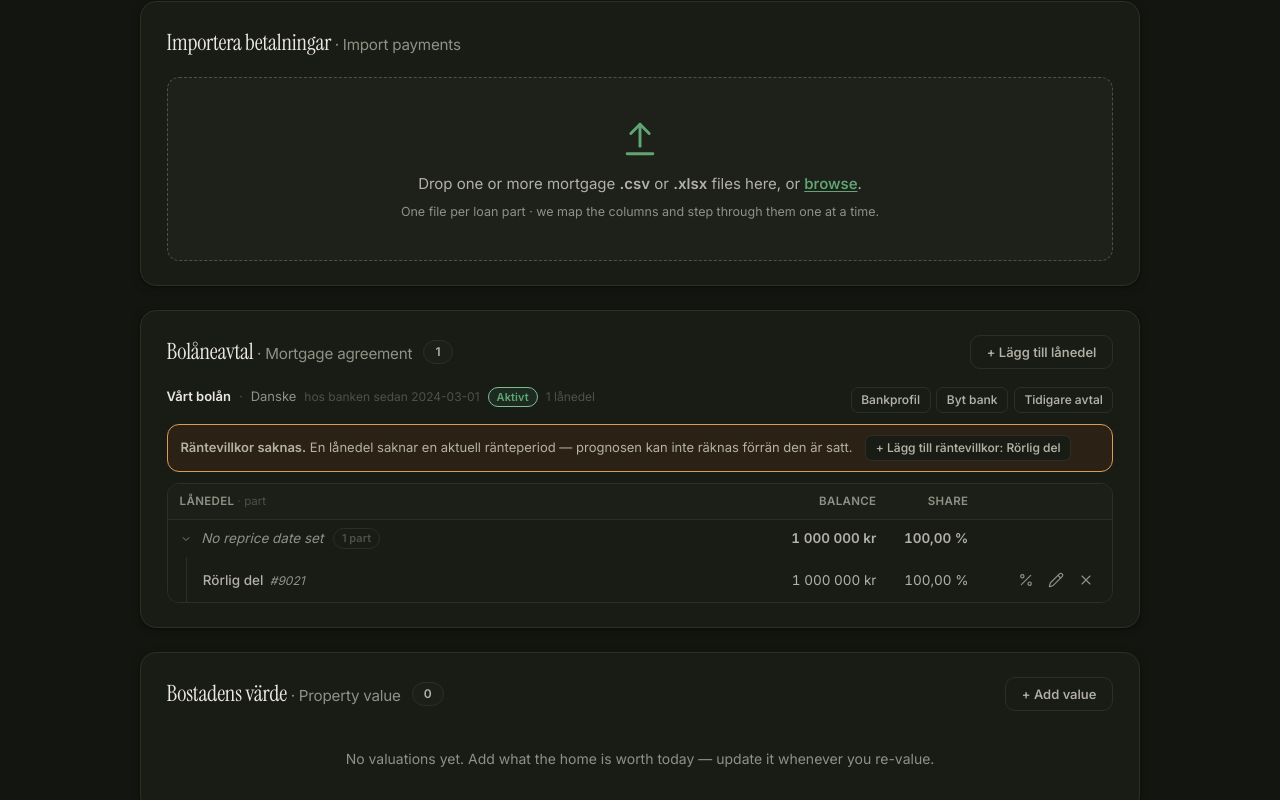
Test case: Bolanekoll — bank profile modal save (plan 109c Stage 1) › keeps the modal open and shows the error when the profile save fails
(page scrolled)
What coordinates should you click on to do the following:
click the button "Bankprofil"
I would click on:
 (891, 400)
Its box is x1=851 y1=387 x2=931 y2=413.
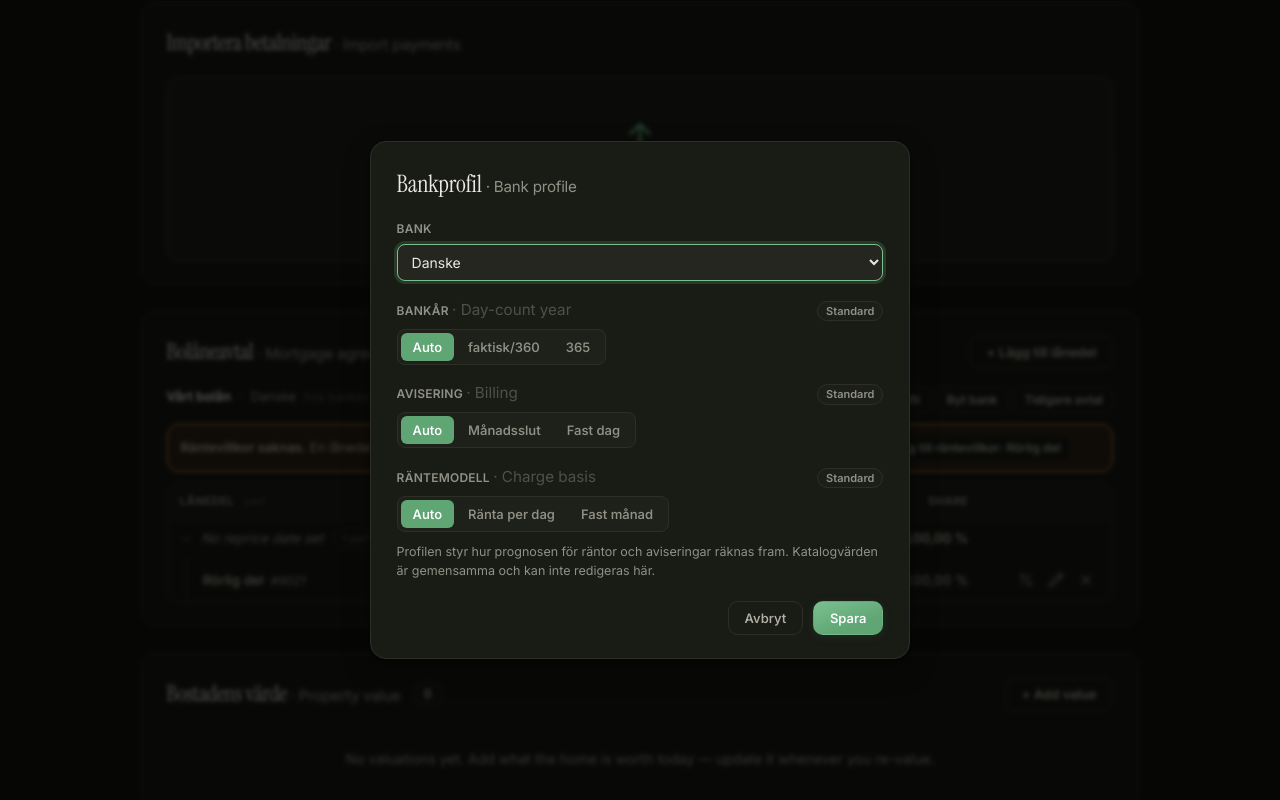
// Lock the year-basis to 365 so the save writes a declared lock.
What coordinates should you click on to do the following:
click the radio button labelled "365"
I would click on:
 (578, 347)
Its box is x1=554 y1=333 x2=602 y2=361.
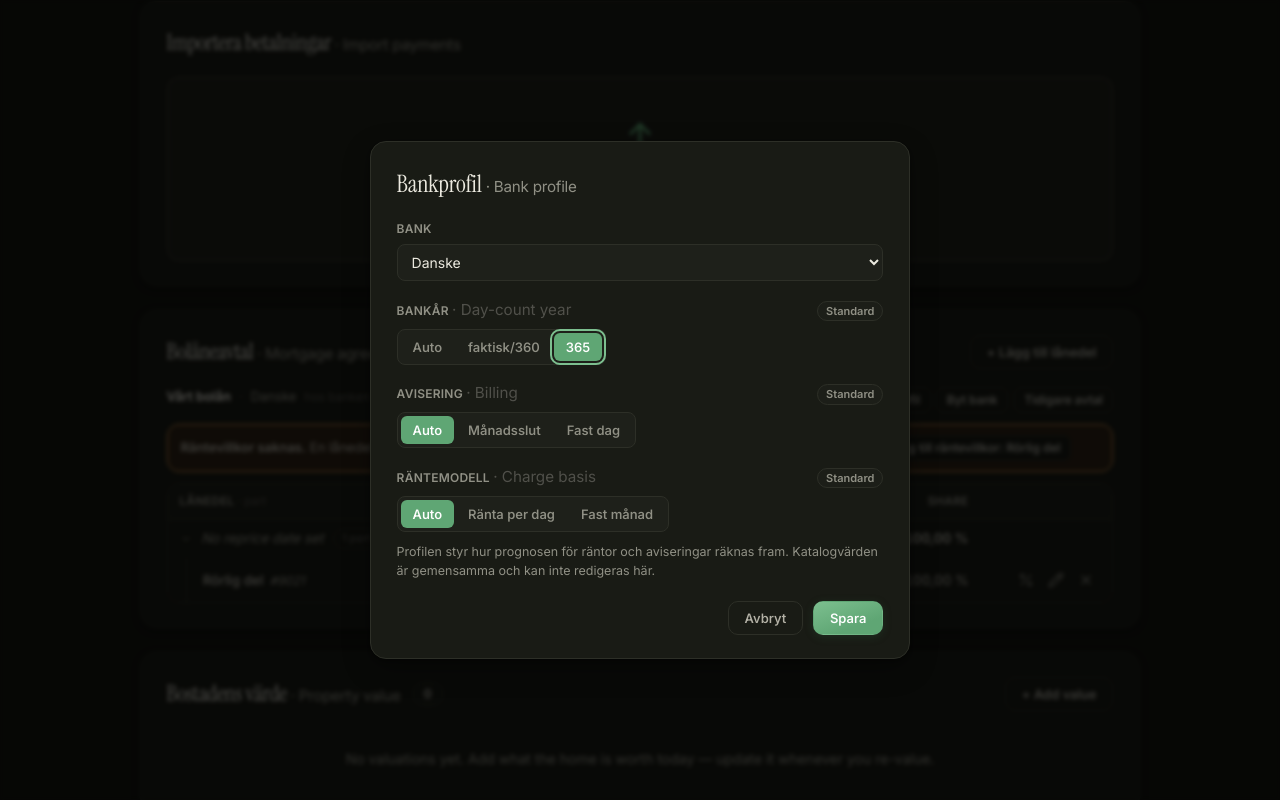
What coordinates should you click on to do the following:
click the button "Spara"
I would click on:
 (848, 618)
Its box is x1=813 y1=601 x2=883 y2=635.
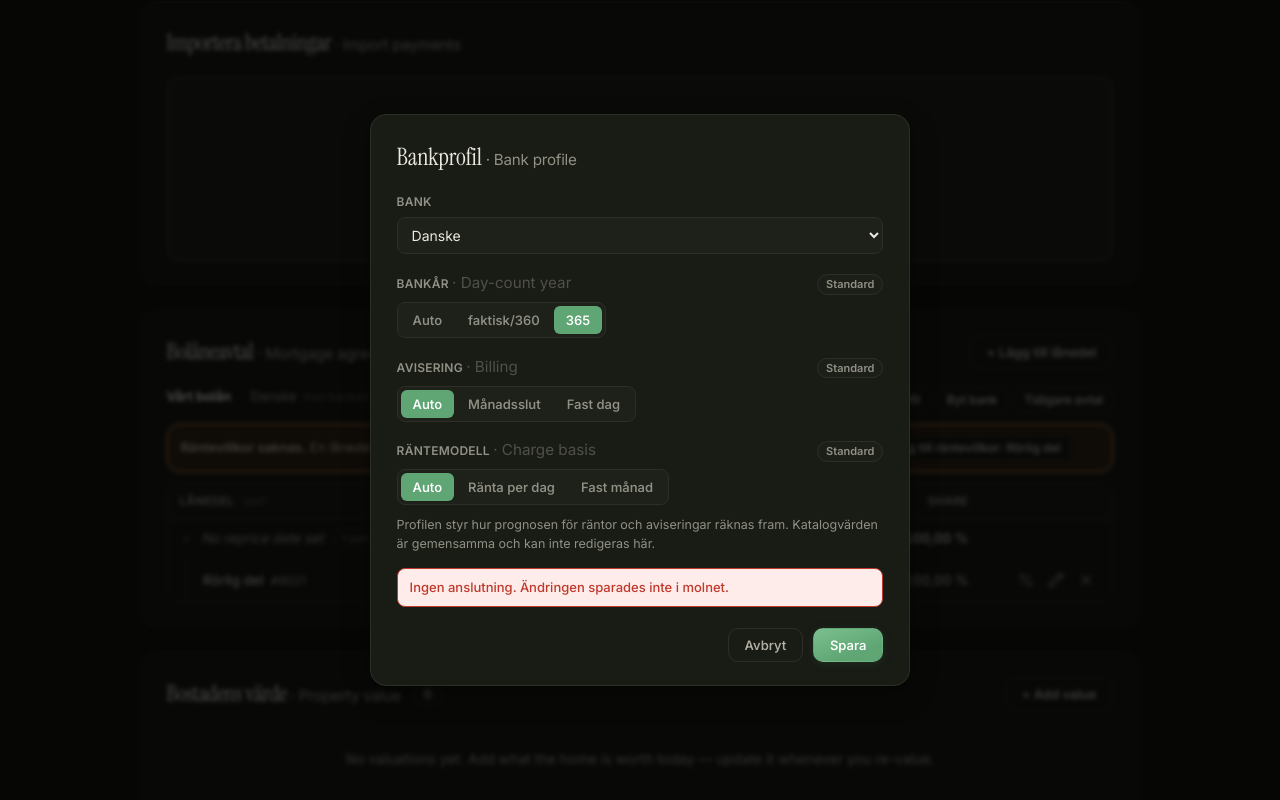
Check: the message reads "Ingen anslutning. Ändringen sparades inte i molnet.", box x1=410 y1=579 x2=729 y2=595
